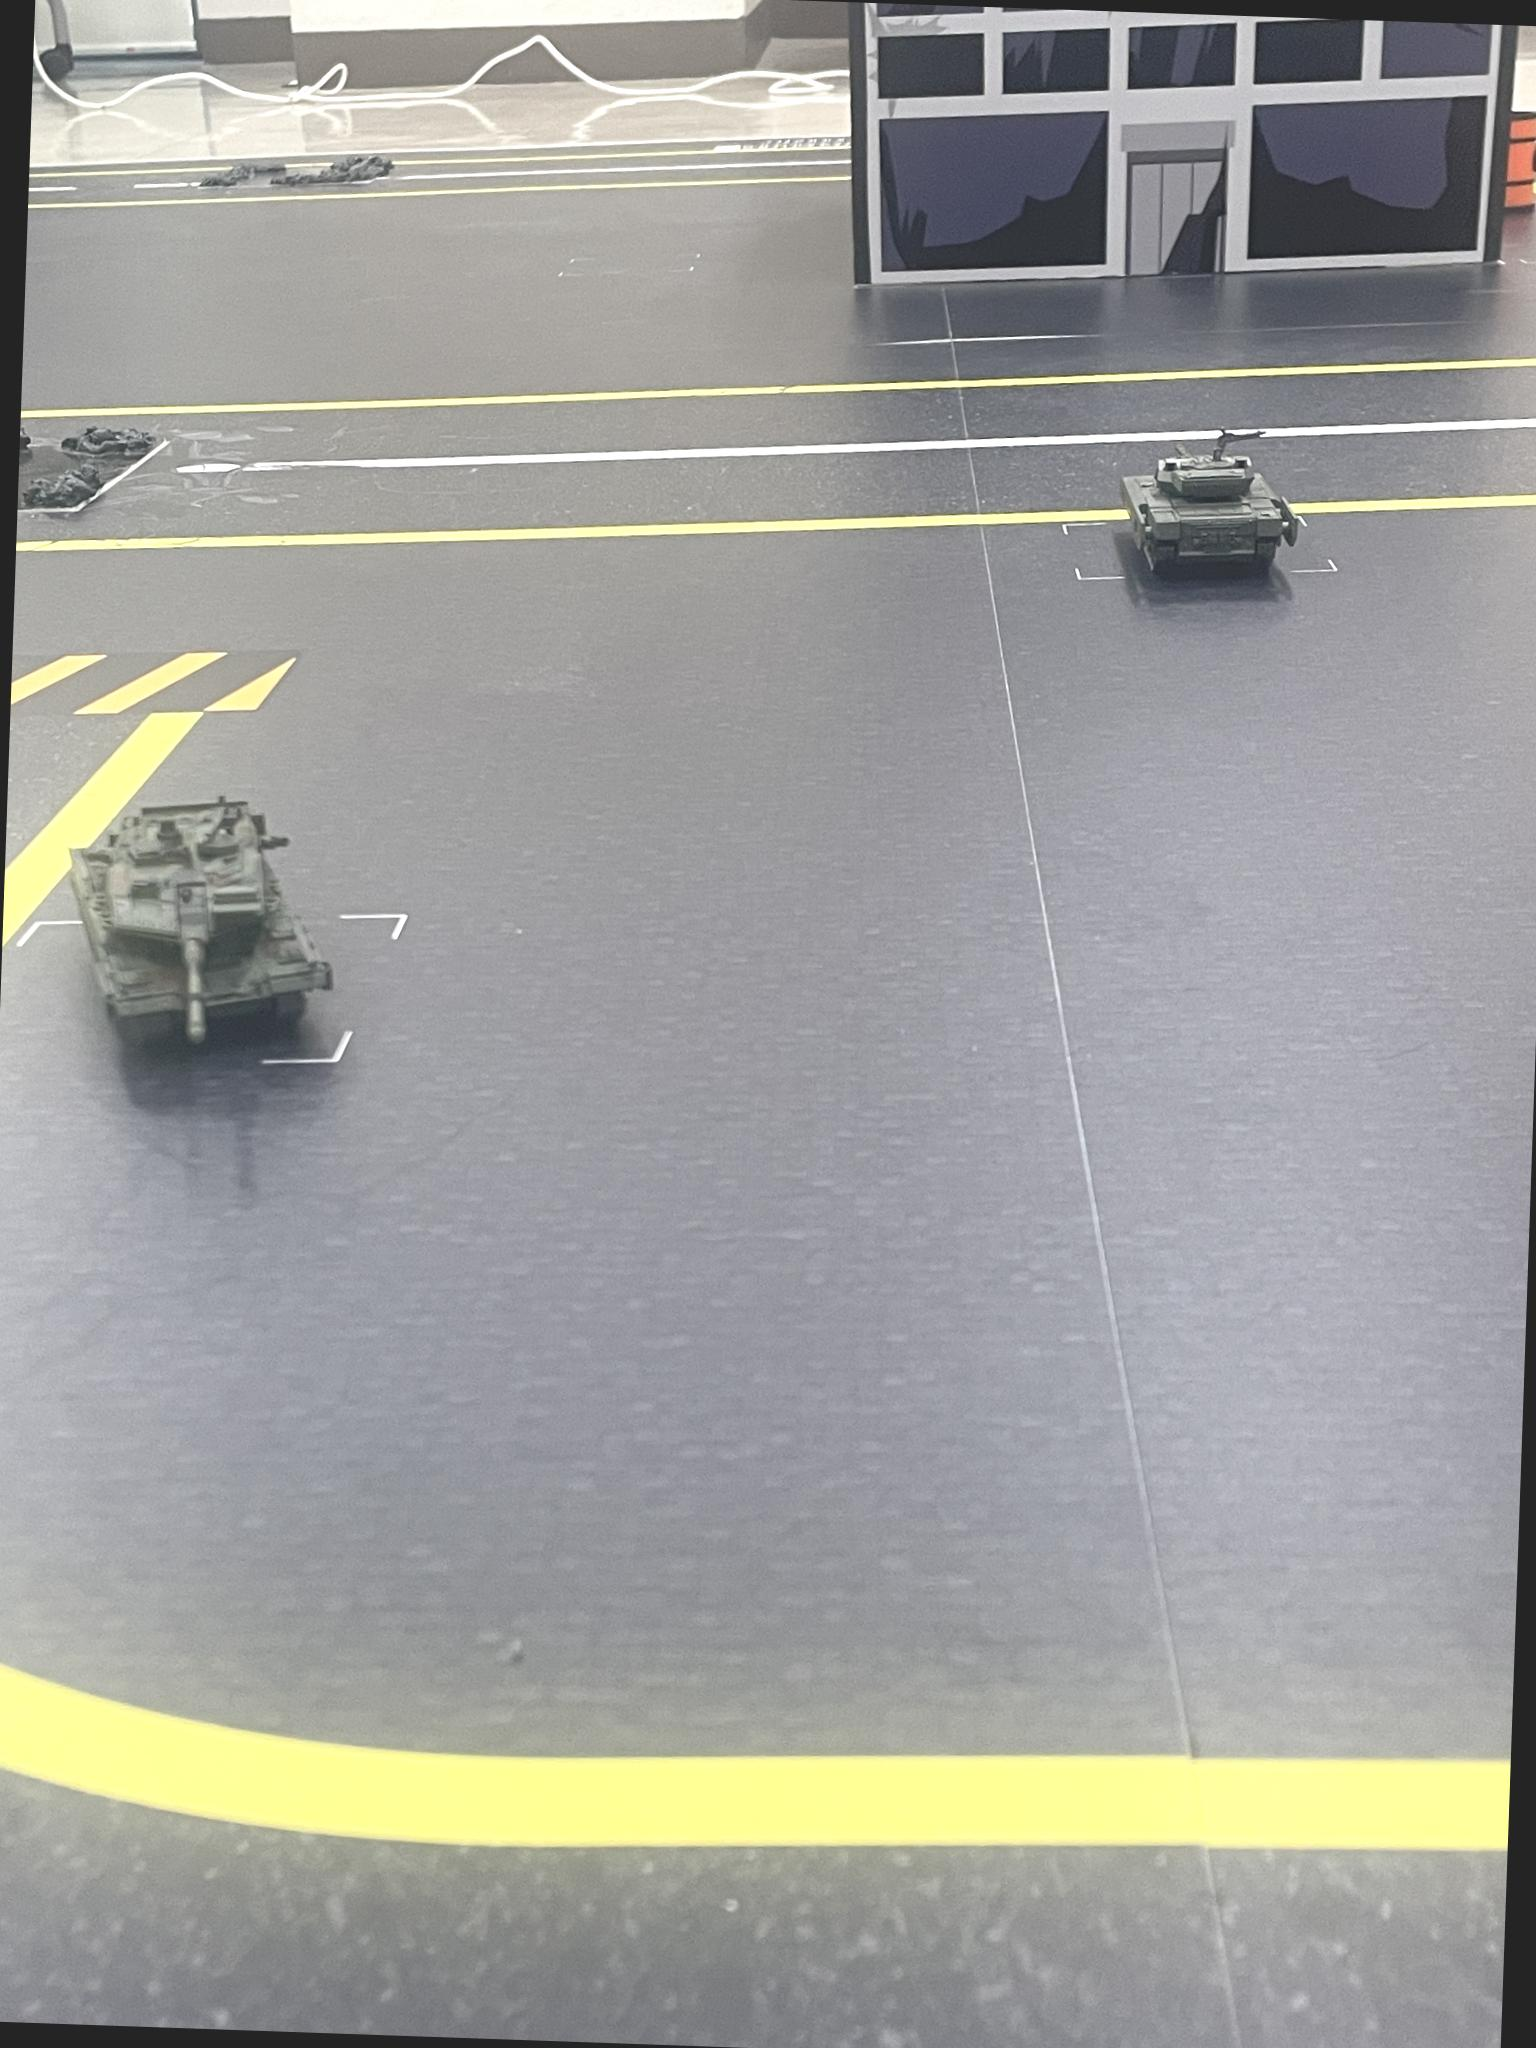Hazmat: (1502, 110, 1536, 218)
Tank: (53, 793, 331, 1077), (1115, 424, 1317, 592)
